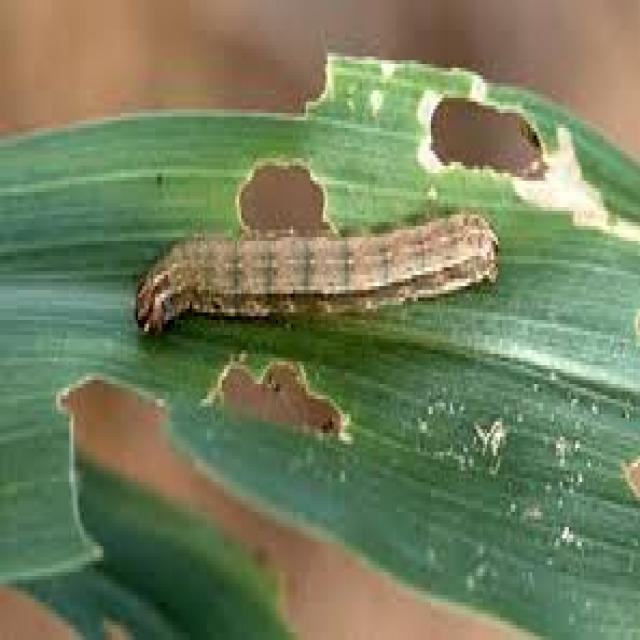armyworm: (136, 209, 501, 346)
